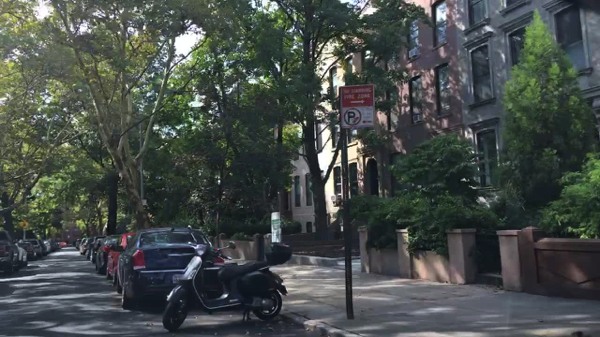car: (115, 228, 206, 310), (104, 235, 137, 286), (0, 230, 20, 277), (94, 237, 117, 275), (87, 238, 103, 265), (24, 237, 44, 258), (15, 240, 29, 267), (81, 237, 97, 259), (75, 237, 92, 256), (21, 242, 37, 261), (37, 242, 48, 256), (42, 242, 52, 255), (50, 242, 60, 253), (58, 242, 68, 247)
motor: (162, 224, 293, 331)
traffic sign: (337, 83, 375, 128), (269, 212, 282, 245), (20, 218, 30, 230)
